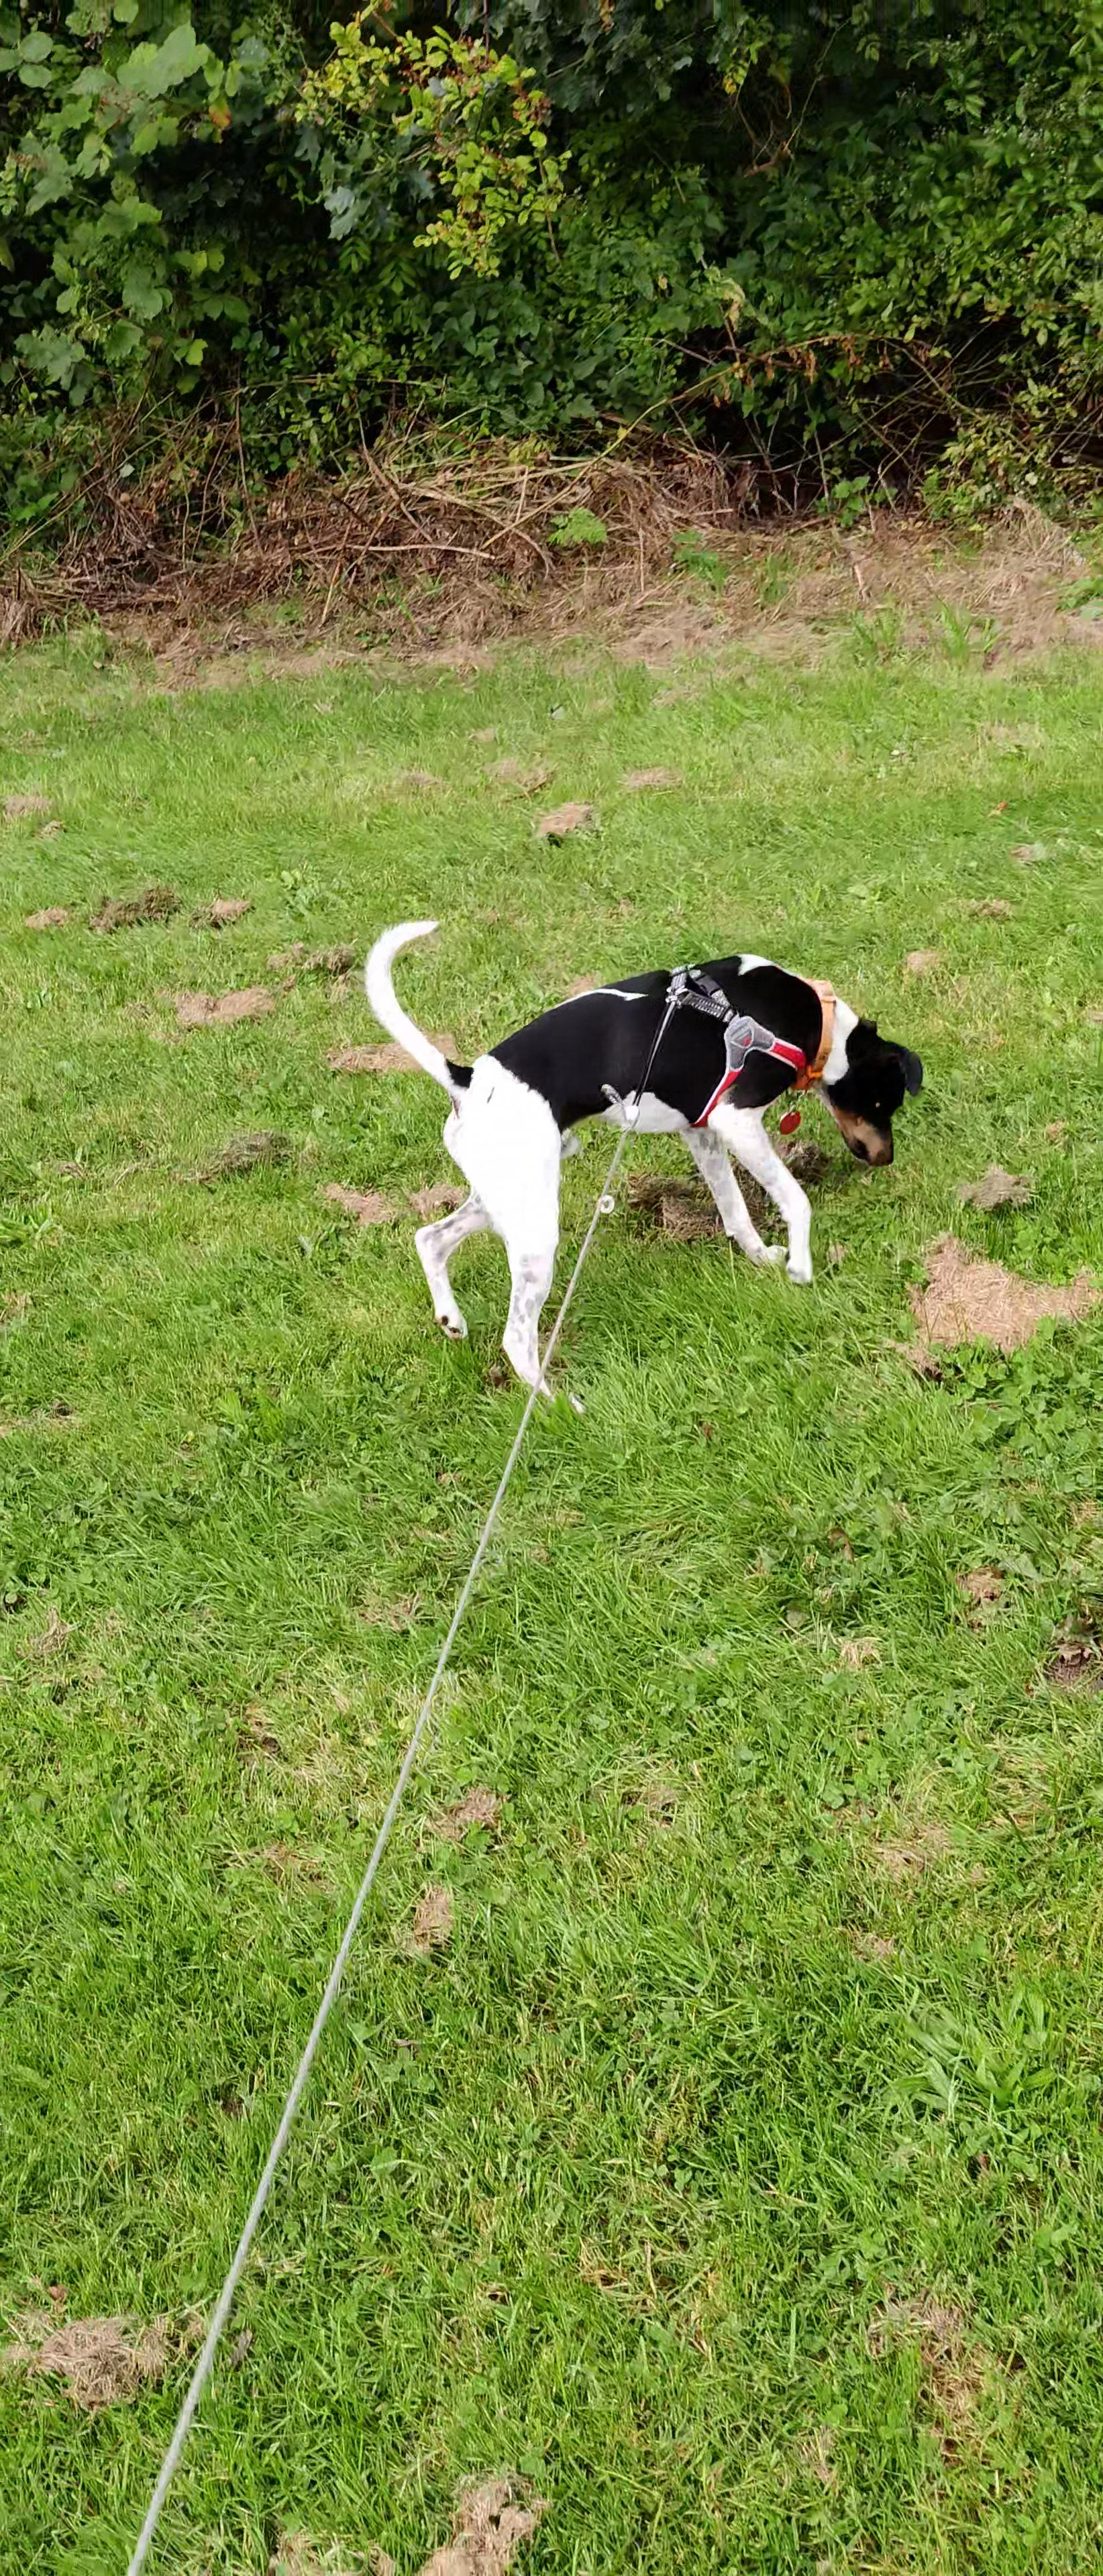Dog: (360, 915, 925, 1403)
